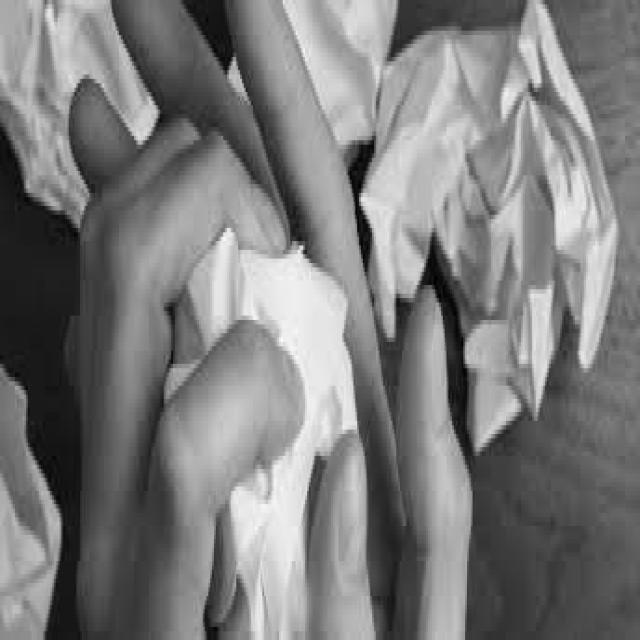PaperCardboard: (359, 0, 617, 436), (160, 230, 359, 640), (0, 0, 159, 225), (280, 0, 399, 164), (0, 365, 61, 640)
